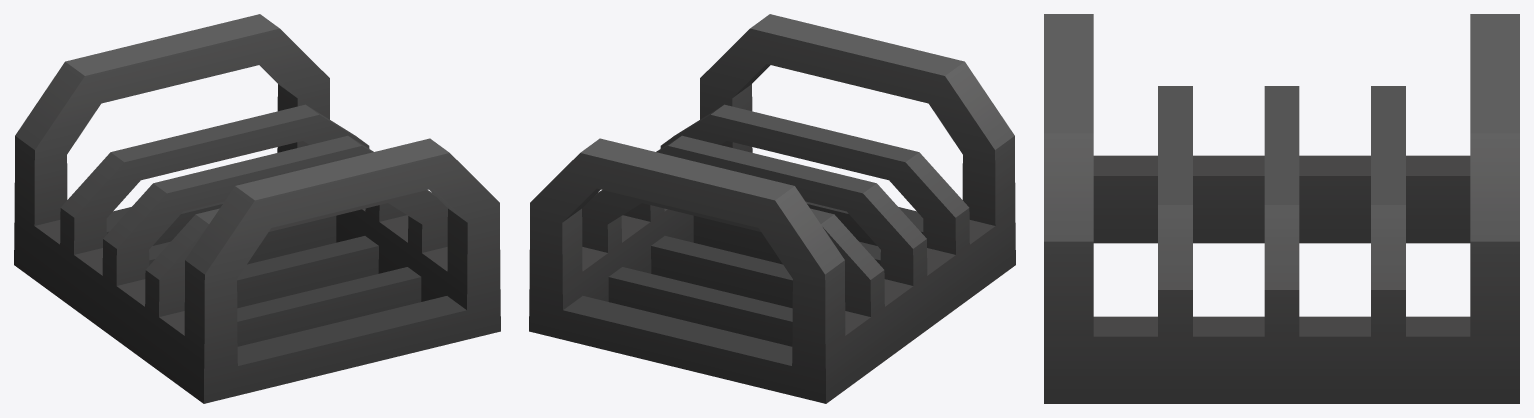
The model's file is Plate_Holder_01.fbx.
3 renders of one model, left to right at view 1: azimuth 30°, elevation 25°; view 2: azimuth 150°, elevation 25°; view 3: azimuth 270°, elevation 25°, orthographic. The views are drawn at different scales.
Visible parts, largest first — view 1: Plate_Holder_01; view 2: Plate_Holder_01; view 3: Plate_Holder_01.
Boxes of the visible parts, x1,y1,x2,y2 form: Plate_Holder_01: (14, 14, 500, 403); Plate_Holder_01: (529, 14, 1015, 403); Plate_Holder_01: (1044, 14, 1519, 403).
Bounding box in the file's own units: 74.62 × 45.84 × 82.55.
